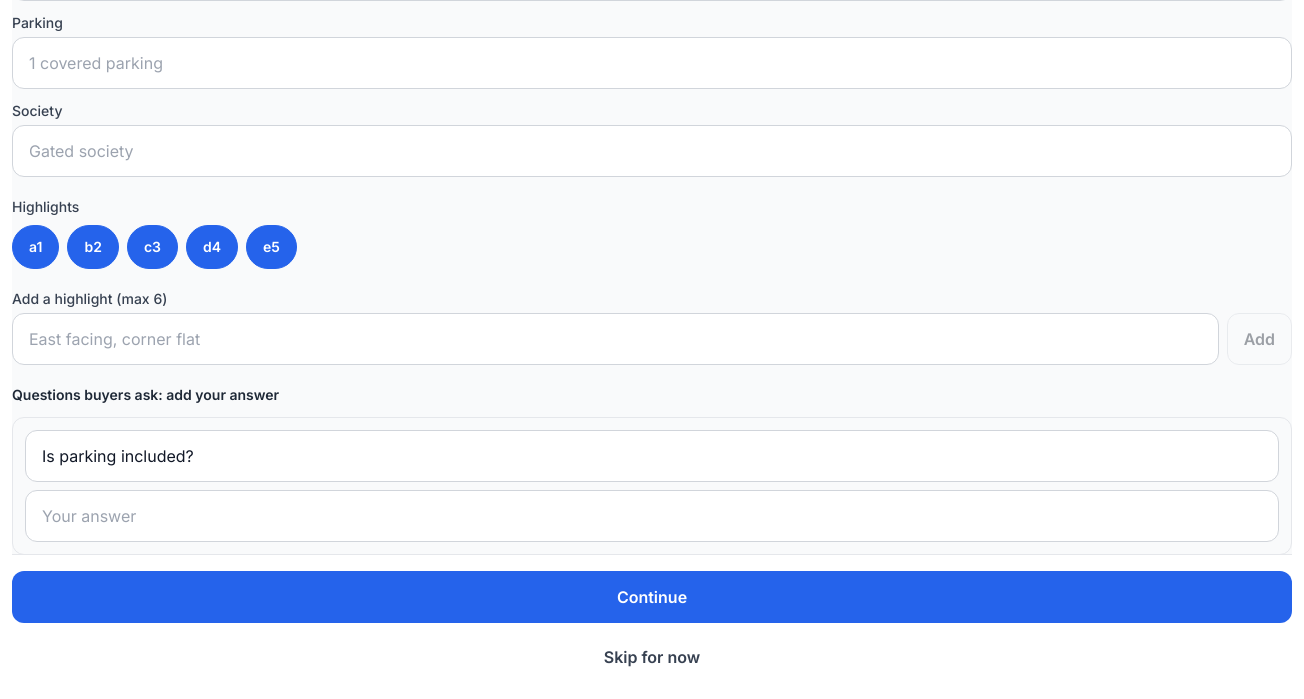
Test: AboutStep › adds up to 6 highlights
This screenshot has width=1304, height=699.
(page scrolled)
Step 1. Type "f6" into the field labelled "Add a highlight (max 6)" → (615, 339), box [12,313,1219,365]
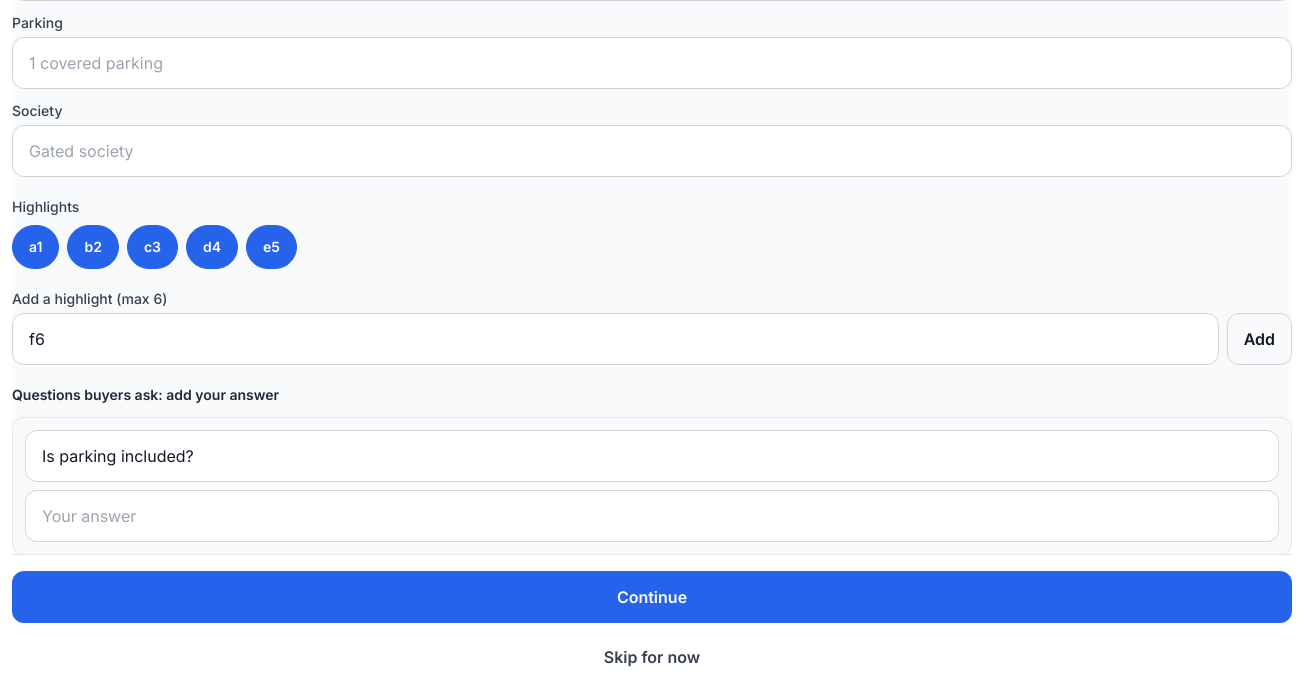
Step 2. Click the button "Add" → (1259, 339), box [1227,313,1292,365]
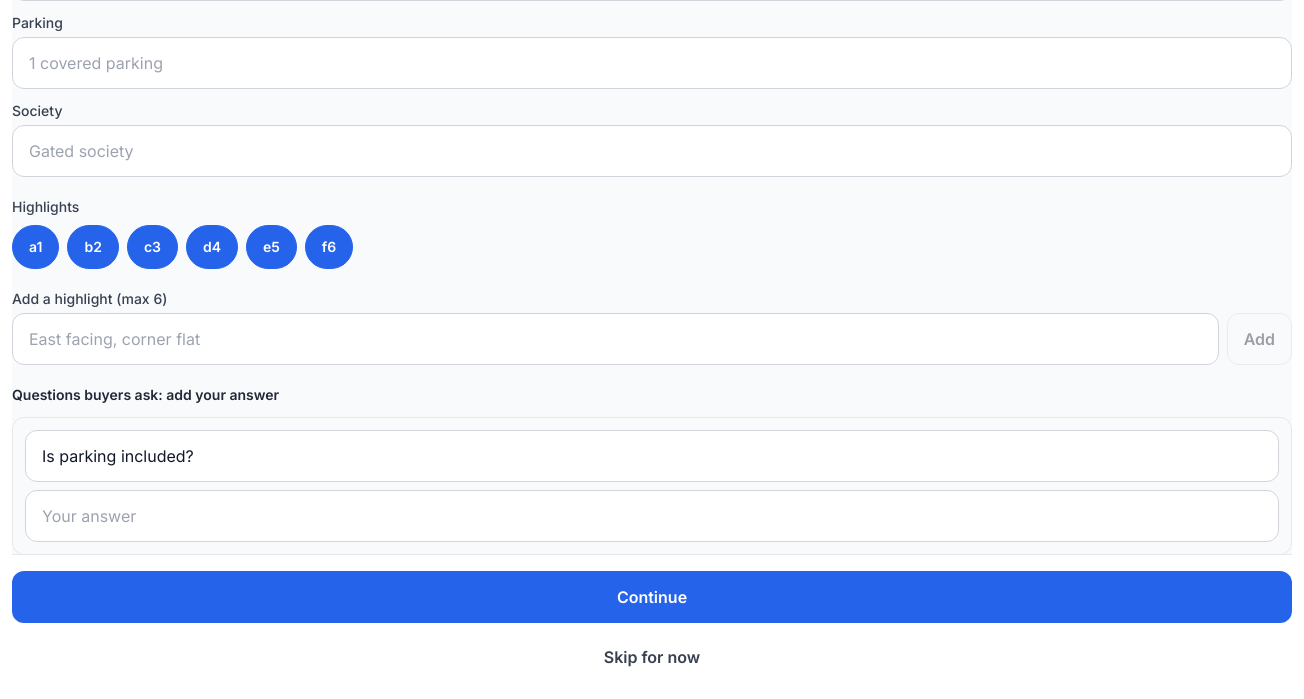
Expected: the field labelled "Add a highlight (max 6)" is disabled, [12,313,1219,365]
